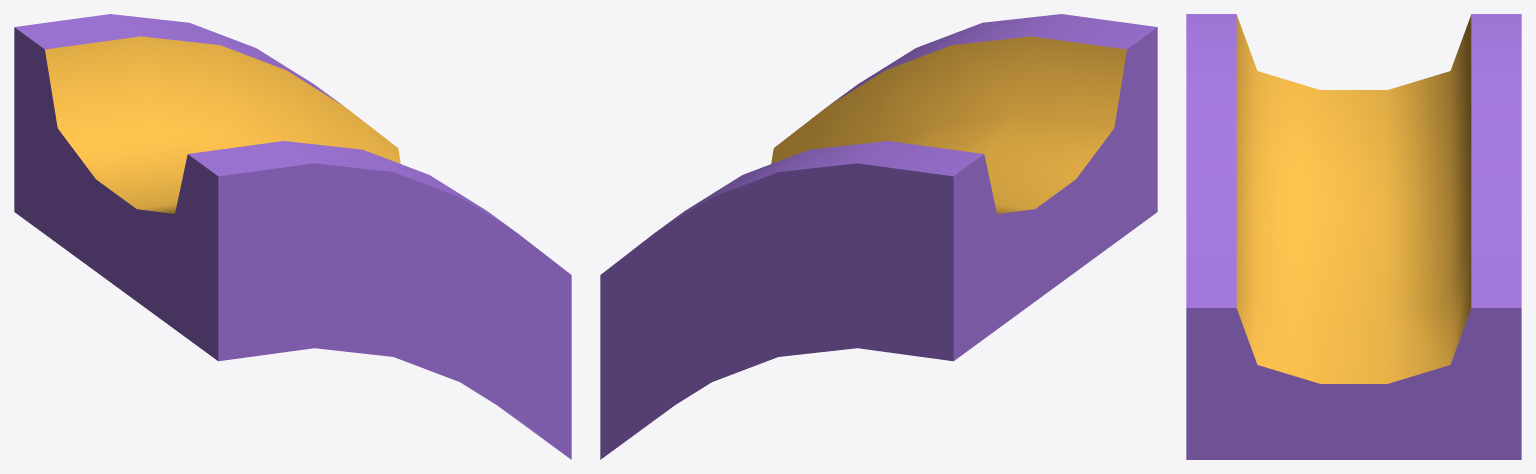
The model's file is ramp-end-c-col.glb.
3 renders of one model, left to right at view 1: azimuth 30°, elevation 25°; view 2: azimuth 150°, elevation 25°; view 3: azimuth 270°, elevation 25°, orthographic. The views are drawn at different scales.
Visible parts, largest first — view 1: ramp-end-c-col; view 2: ramp-end-c-col; view 3: ramp-end-c-col.
Boxes of the visible parts, x1,y1,x2,y2 form: ramp-end-c-col: [14, 14, 571, 459]; ramp-end-c-col: [600, 14, 1157, 459]; ramp-end-c-col: [1186, 14, 1521, 459].
Bounding box in the file's own units: 1 × 1 × 1.
1 material, 1 textured.
